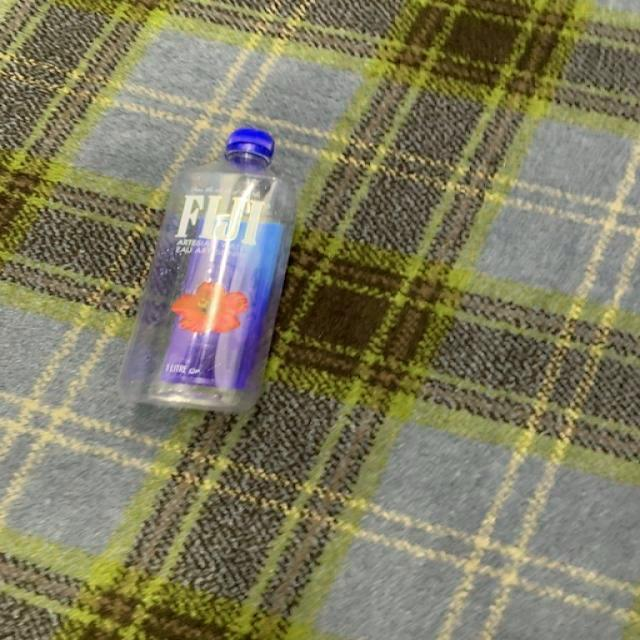bottle: (116, 129, 297, 413)
